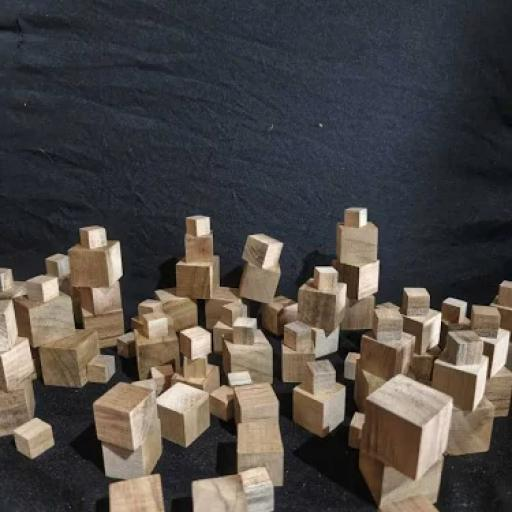mainan blok: (0, 205, 512, 512)
